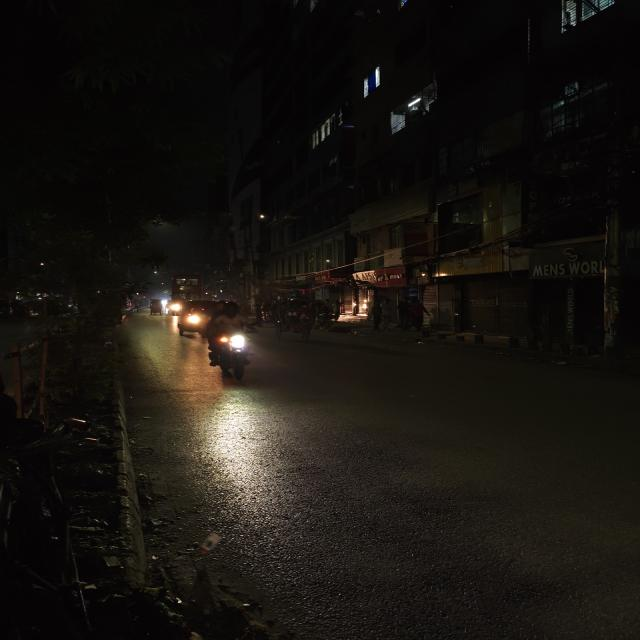bus: (167, 268, 200, 309)
cng: (173, 300, 206, 336)
motorcycle: (191, 298, 263, 384)
pedestrian: (410, 299, 430, 331), (366, 301, 386, 332)
rickshaw: (266, 298, 314, 340), (312, 299, 336, 331), (148, 298, 164, 318)
